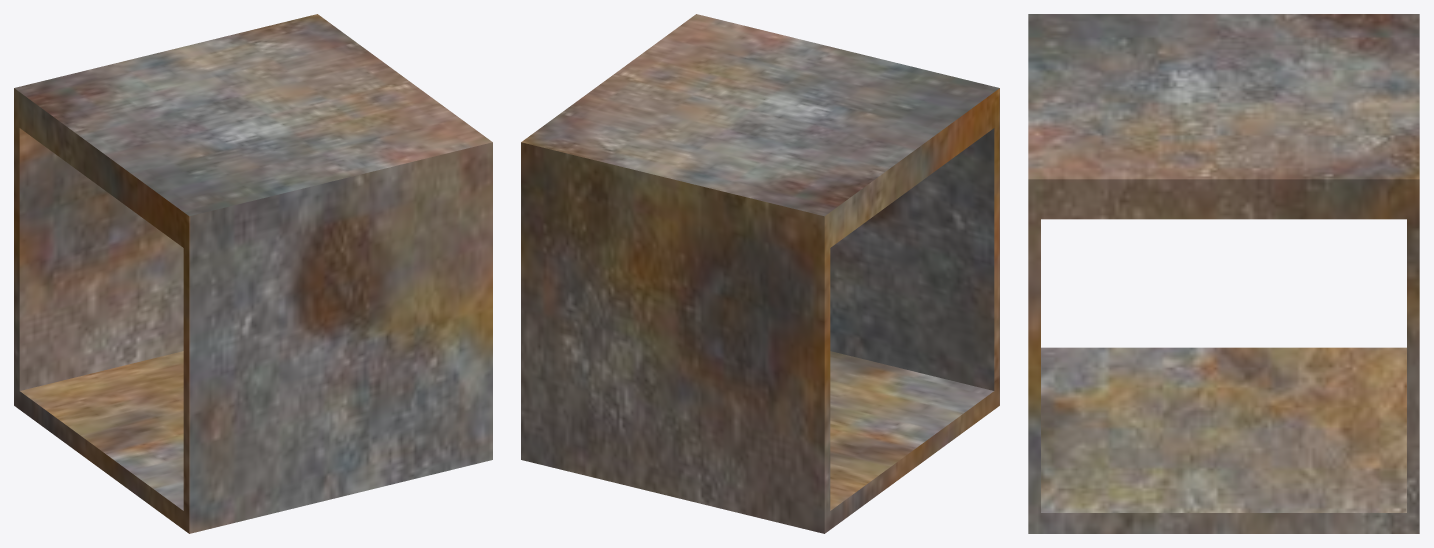
Rendered from Elevator.dae.
The picture shows the model from 3 angles, left to right: view 1: azimuth 30°, elevation 25°; view 2: azimuth 150°, elevation 25°; view 3: azimuth 270°, elevation 25°; orthographic projection. The views are drawn at different scales.
Visible parts, largest first — view 1: Cube; view 2: Cube; view 3: Cube.
Boxes of the visible parts, box(x1,y1,x2,y2) form: Cube: box(14, 14, 492, 533); Cube: box(521, 14, 999, 533); Cube: box(1028, 14, 1419, 533).
Size of the model in its own units: 38.29 by 38.29 by 38.29.
Materials: 1 (1 with a texture image).
